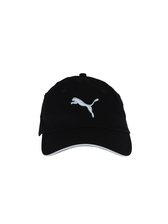other: (26, 78, 140, 157)
